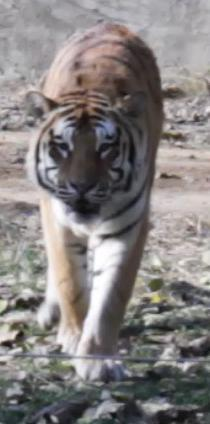tiger: (25, 22, 163, 355)
